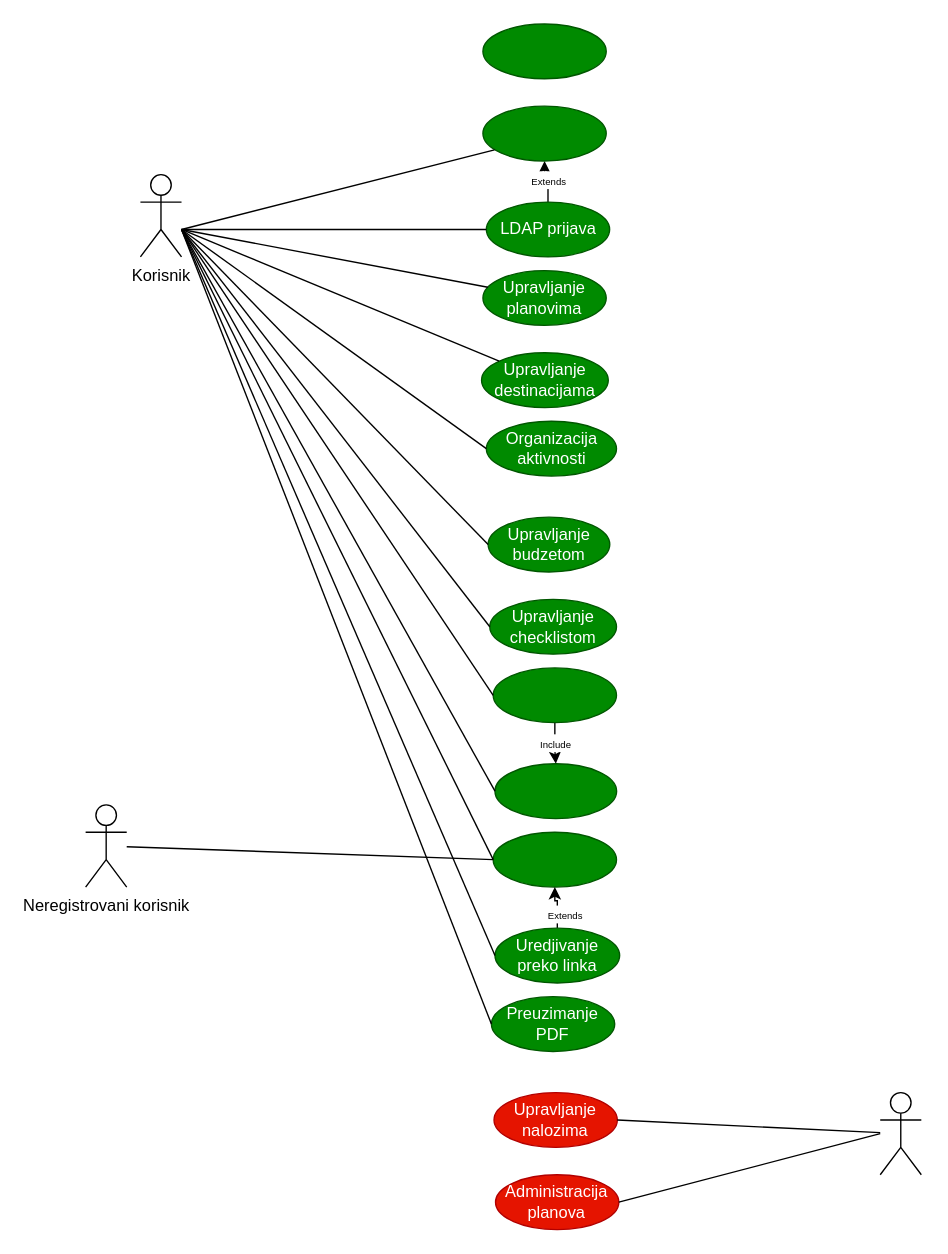
The diagram is 948 pixels wide and 1254 high, and some of its shapes have lost their labels. Here are the shapes that lost their labels. From the top down, the centre of each, then its label:
At point 544,51: "Registracija".
At point 544,133: "Prijava".
At point 554,695: "Deljenje plana".
At point 555,790: "Generisanje QR koda".
At point 554,859: "Pregled deljenog linka".
At point 900,1133: "Admin".
